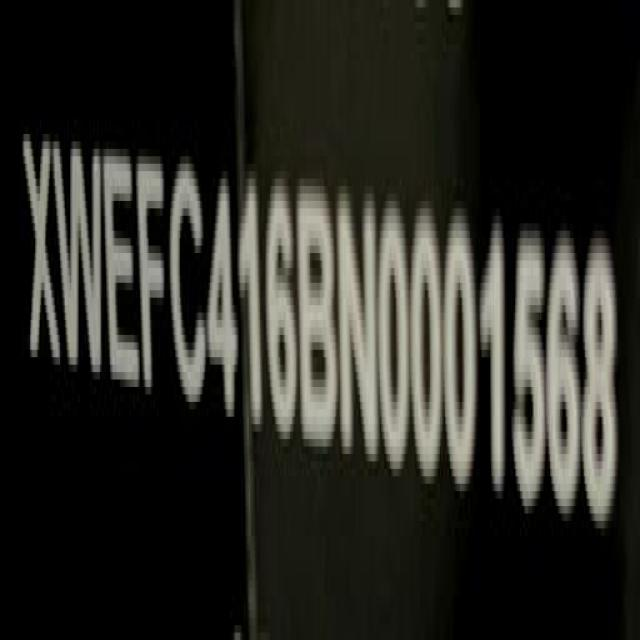0: (408, 198, 442, 491), (444, 199, 476, 485), (378, 193, 409, 463)
1: (478, 221, 506, 494), (238, 168, 263, 427)
4: (207, 168, 238, 416)
5: (512, 220, 547, 526)
6: (545, 218, 582, 512), (263, 187, 298, 441)
8: (580, 234, 618, 532)
B: (296, 165, 339, 452)
C: (167, 152, 208, 410)
F: (134, 138, 165, 405)
N: (337, 171, 379, 452)
W: (52, 121, 104, 389), (101, 138, 140, 388)
X: (23, 113, 60, 375)
